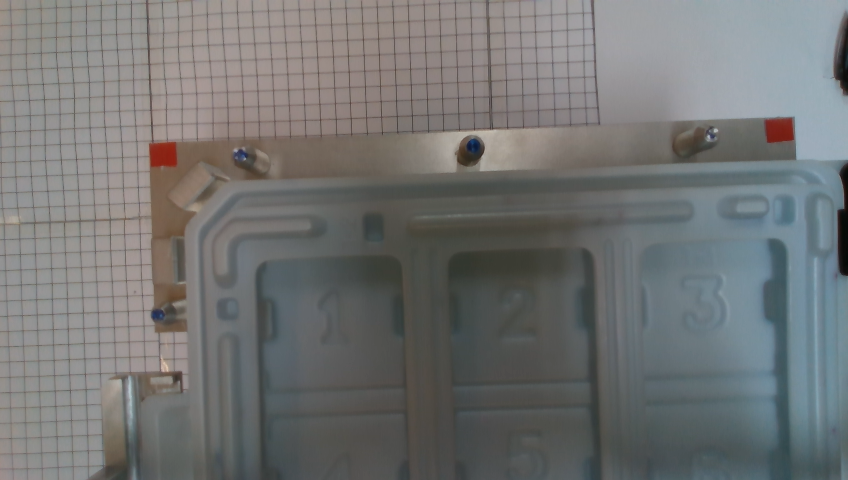red: (765, 118, 794, 142), (150, 142, 177, 167)
